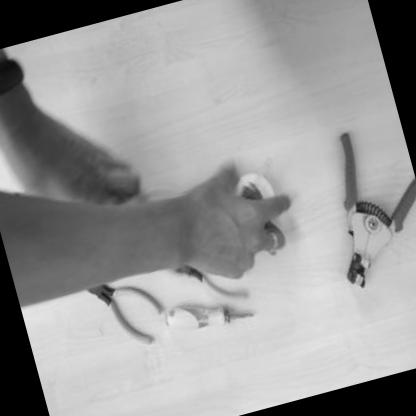Screwdriver: (156, 281, 260, 344)
